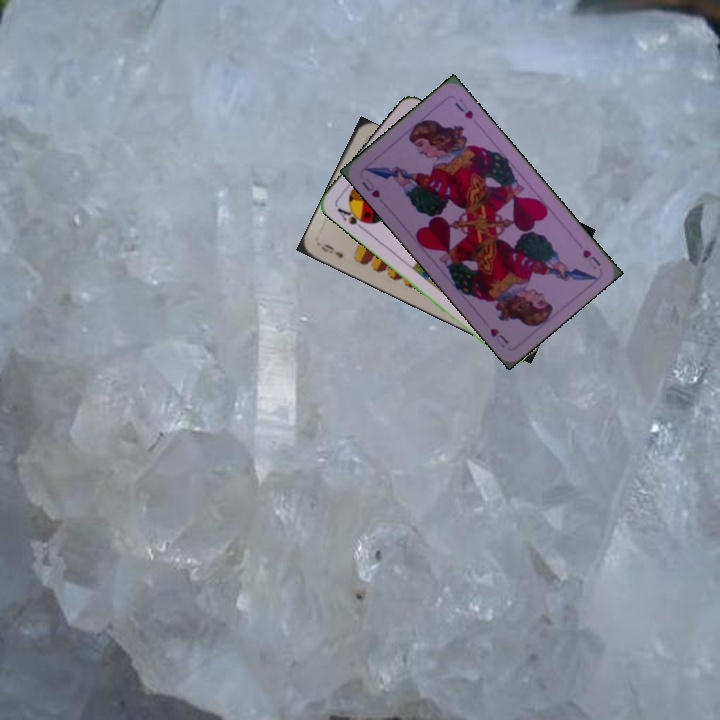E9: (317, 239, 346, 261)
HU: (357, 174, 383, 201), (579, 245, 603, 272)
SA: (333, 203, 371, 233)
